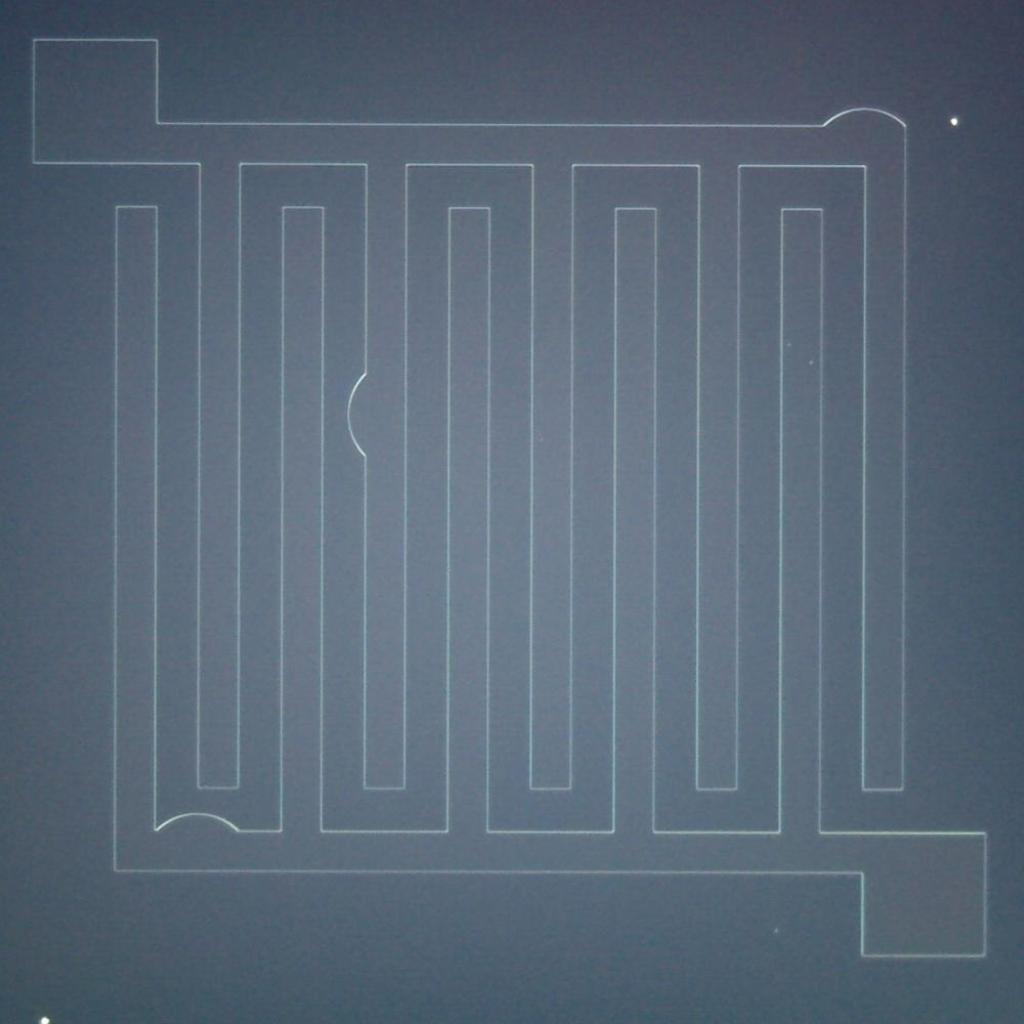dot: (39, 1014, 51, 1024), (950, 118, 959, 126), (774, 928, 778, 932), (787, 342, 791, 346), (809, 360, 813, 364), (540, 438, 544, 442)
